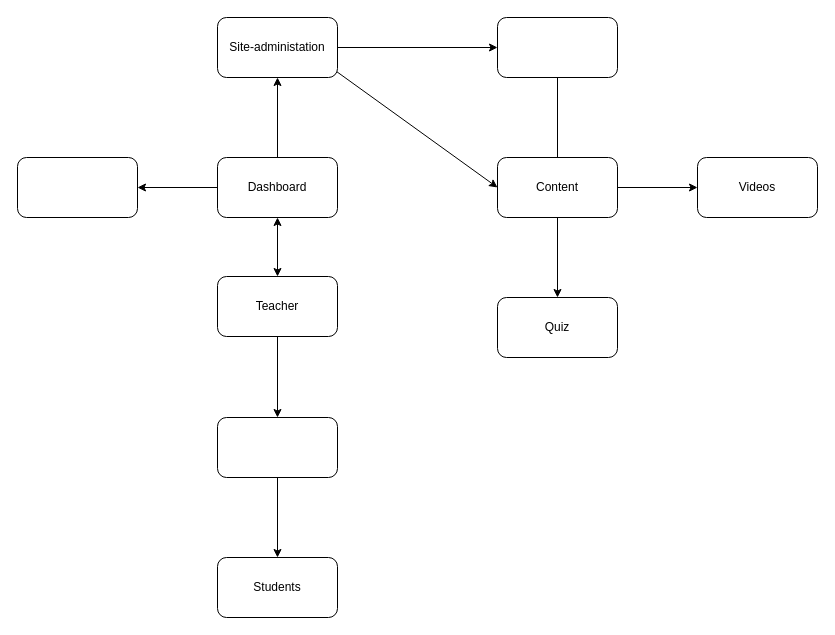
This 835x635 diagram has some shape labels left out. The shapes that lost their labels are listed below. From the top down, each one's centre as x and y in pixels, then its label:
point (557, 47): Course template
point (77, 187): Statistics
point (277, 447): Classroom
